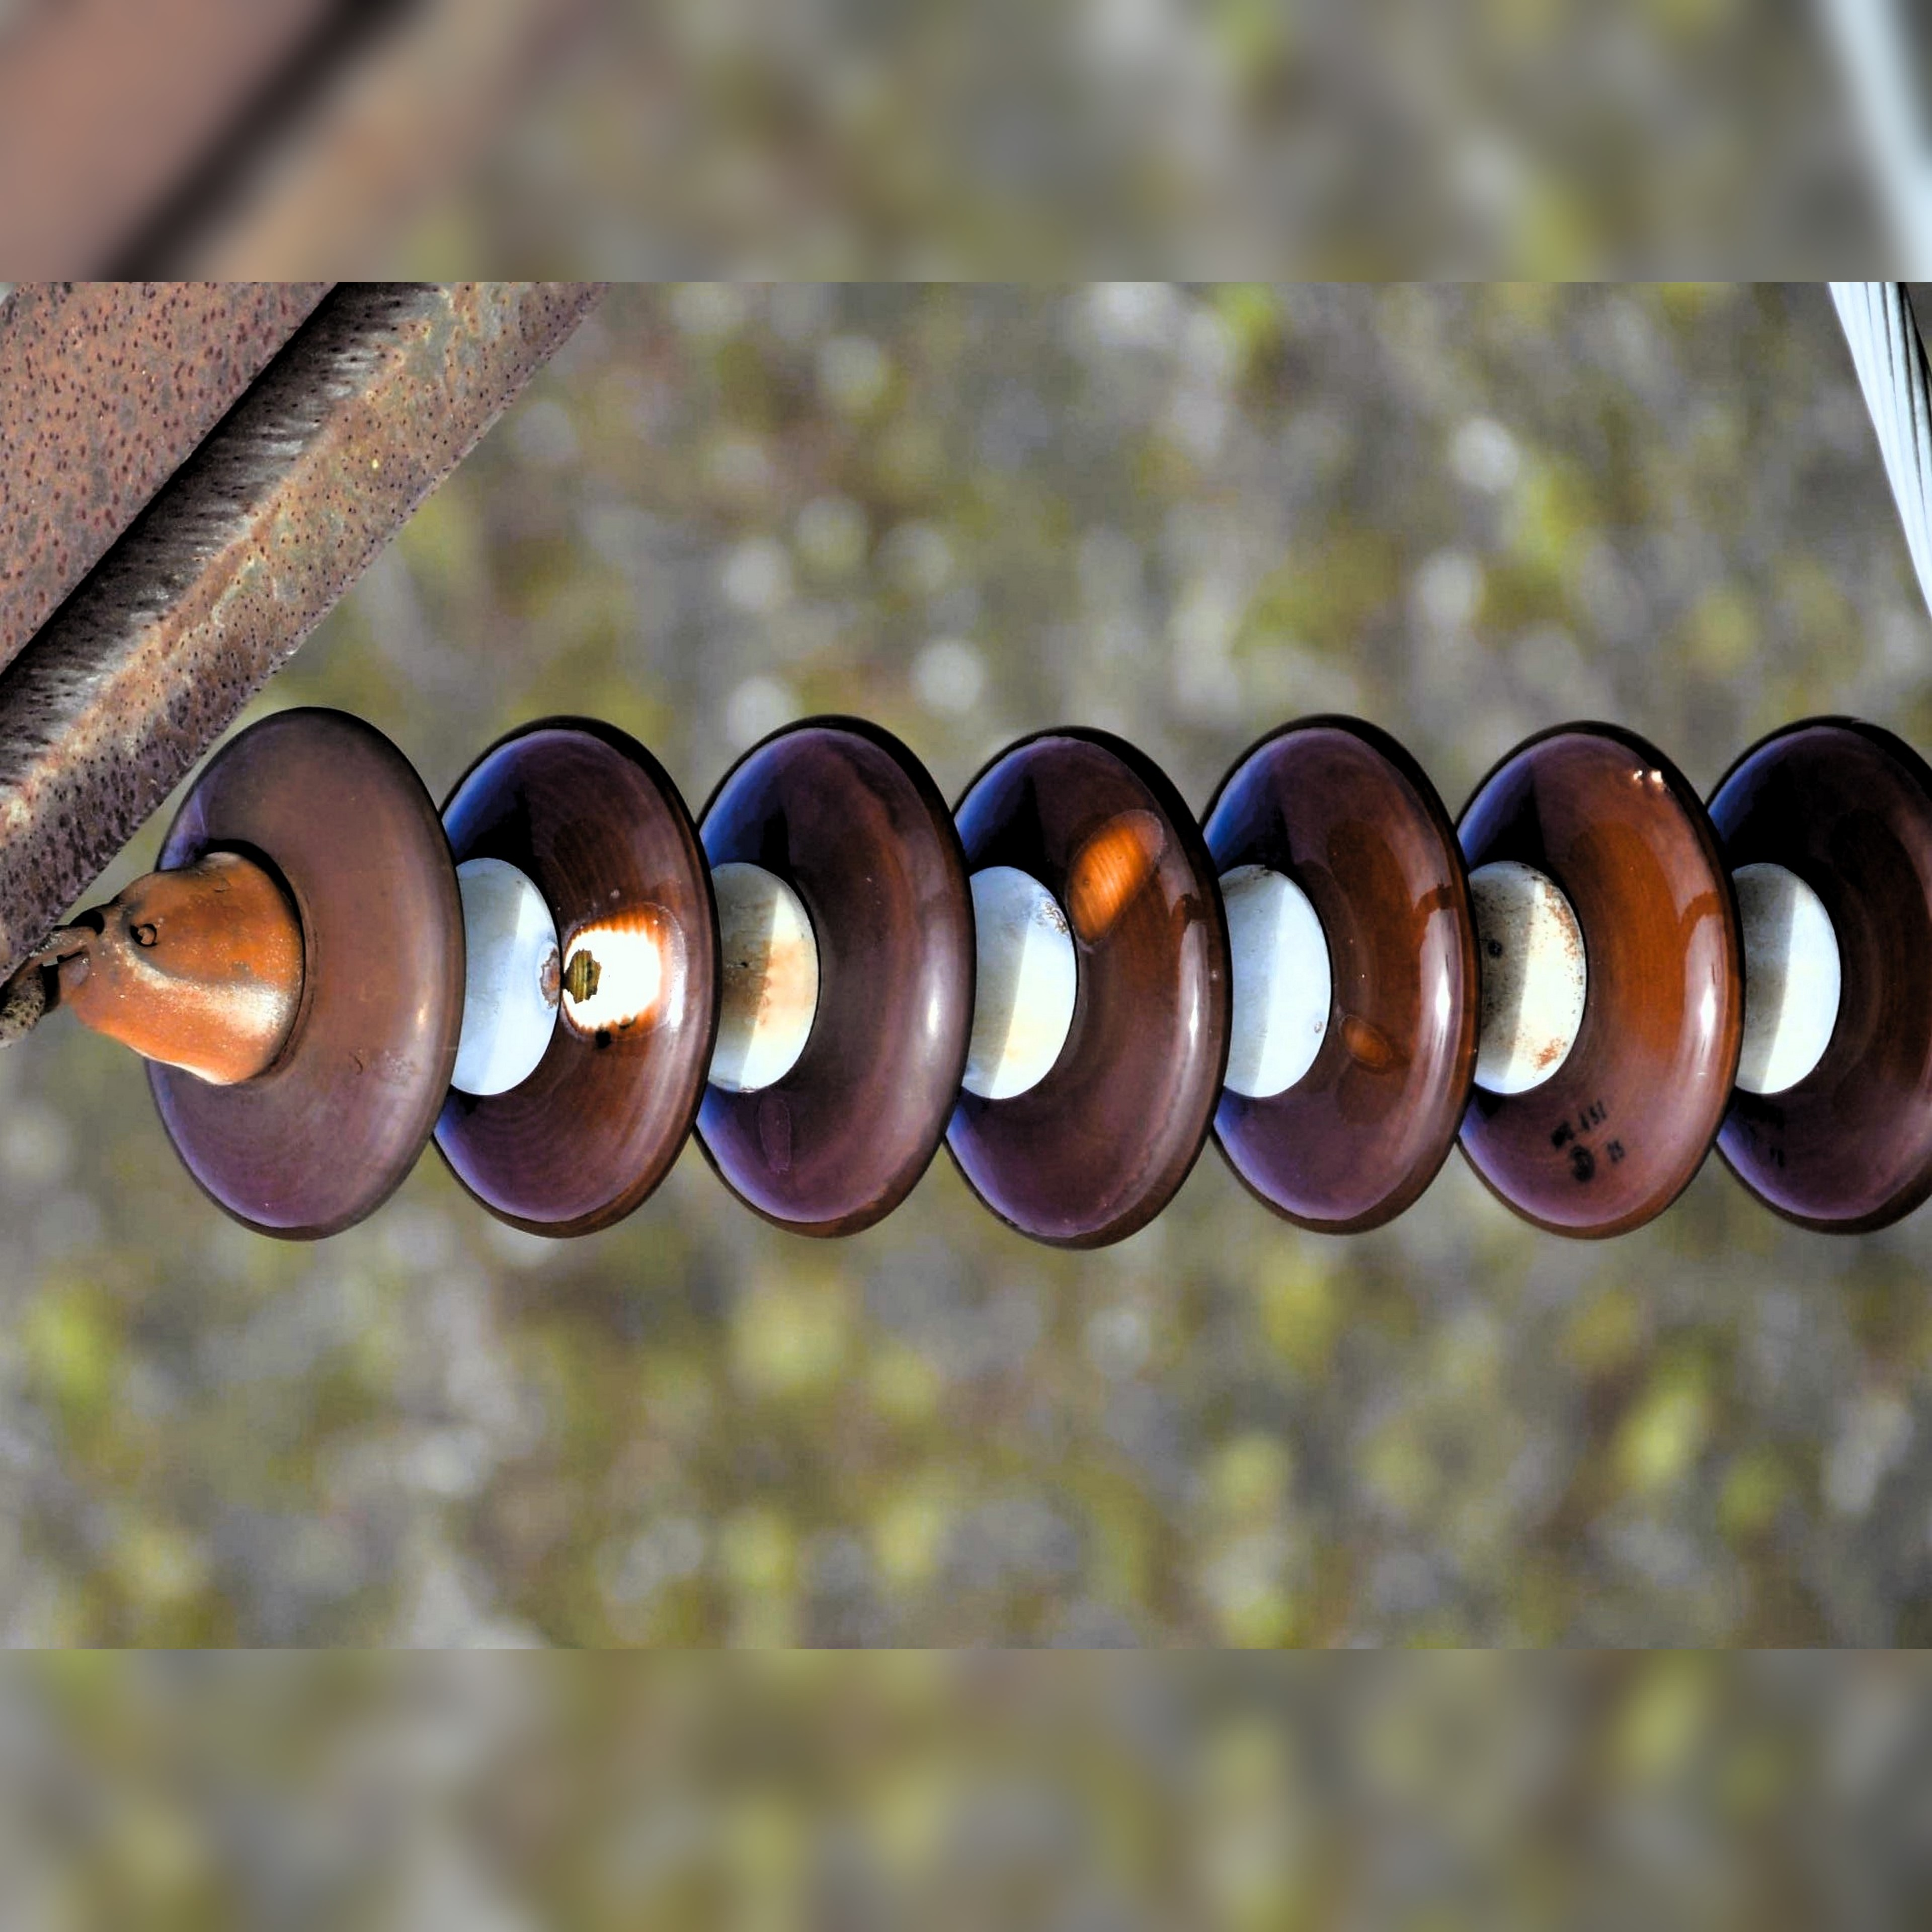Insulator flashover: (409, 697, 731, 1253), (925, 711, 1240, 1269)
